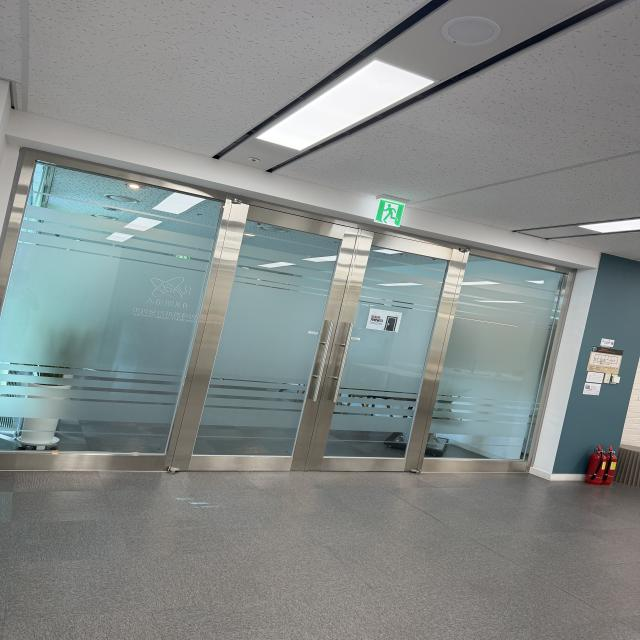front_door: (7, 142, 580, 530)
